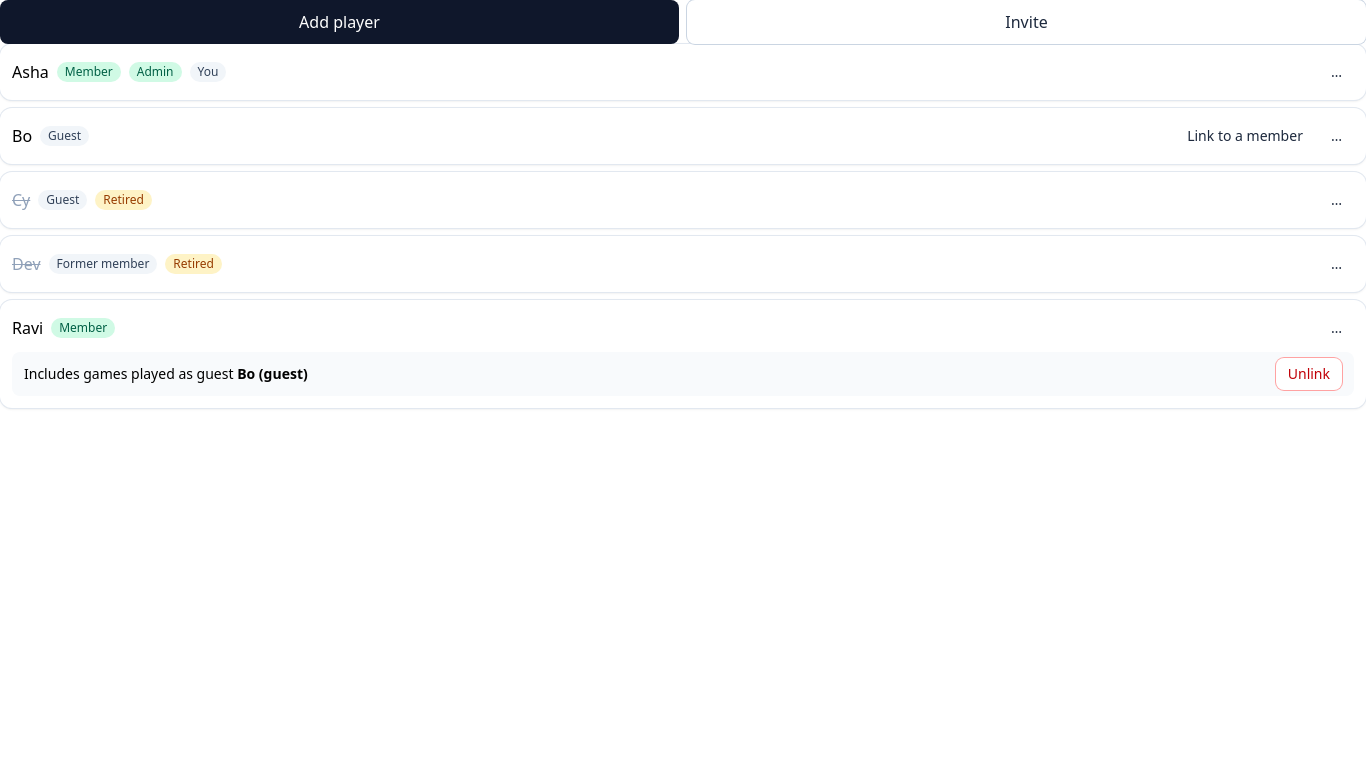
Test case: the actions on a row › does not save a blank name
The image size is (1366, 768).
Click the 2nd button "…" at (1336, 136), box top-left (1319, 120), bottom-right (1354, 152)
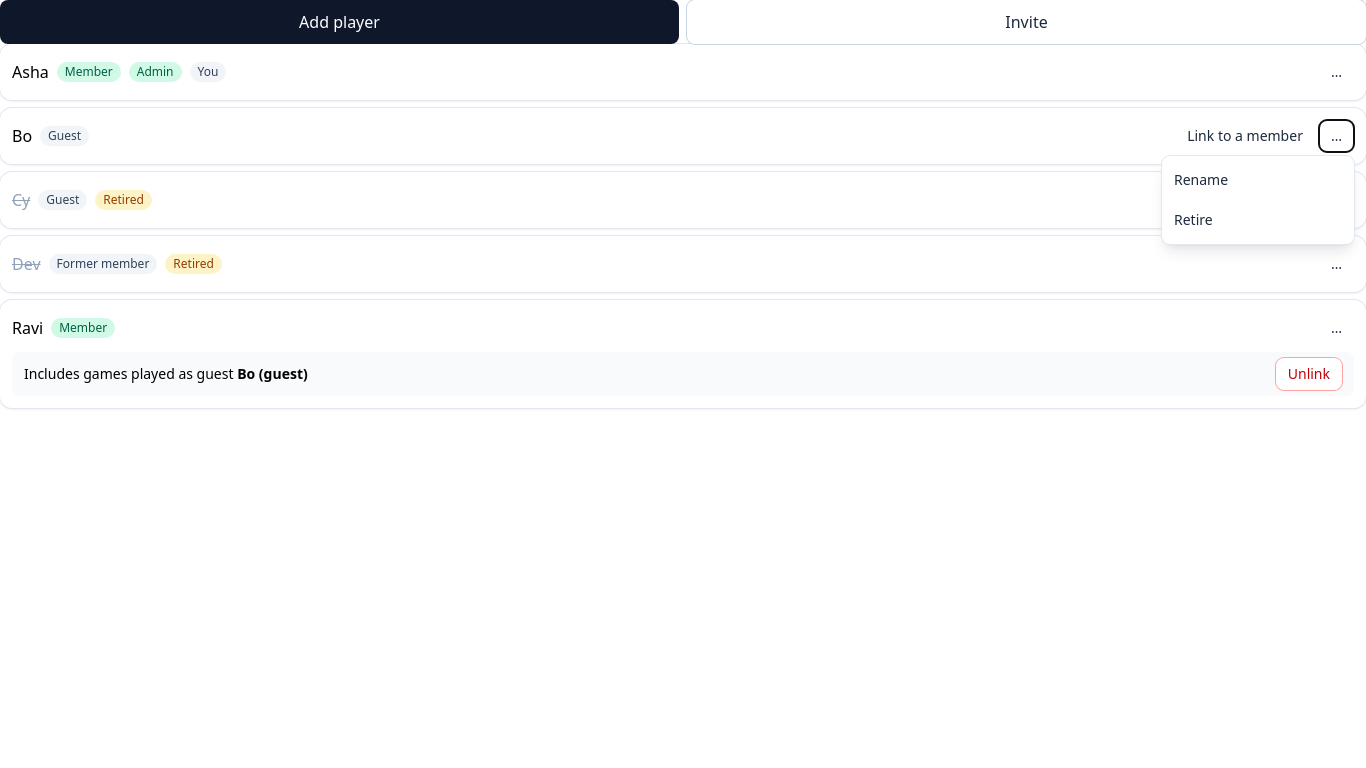
Click the menu item "Rename" at (1258, 180), box top-left (1162, 160), bottom-right (1354, 200)
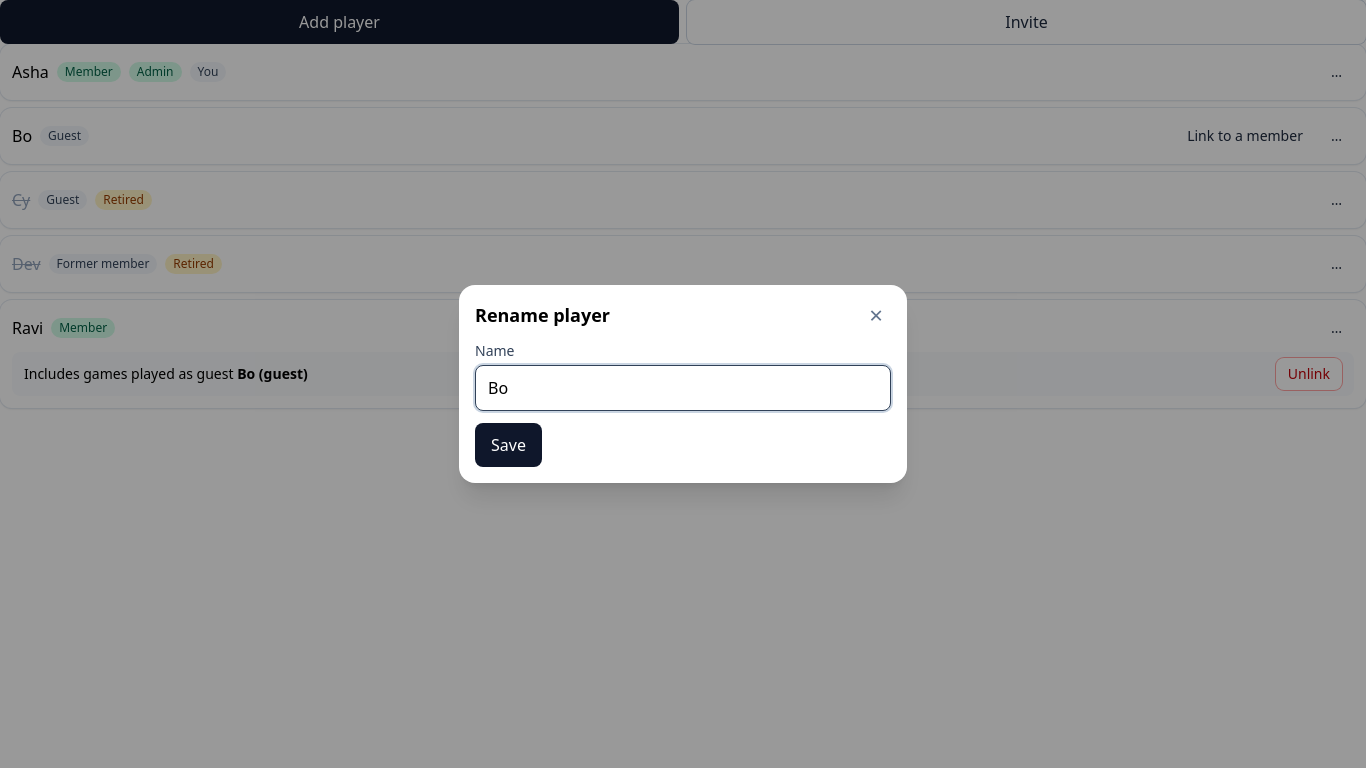
Clear the field labelled "Name" at (683, 388), box top-left (475, 365), bottom-right (891, 411)
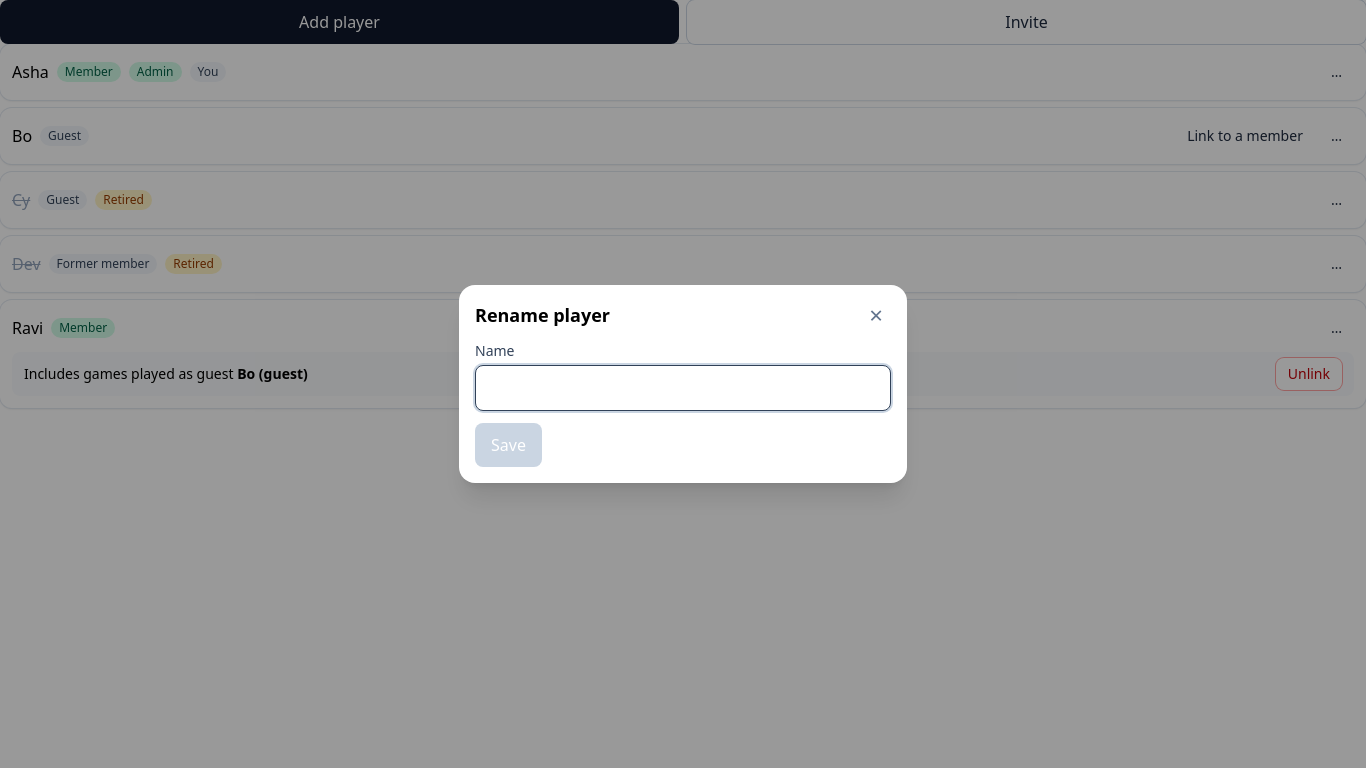
expect the button "Save" is disabled: met, box top-left (475, 423), bottom-right (542, 467)
